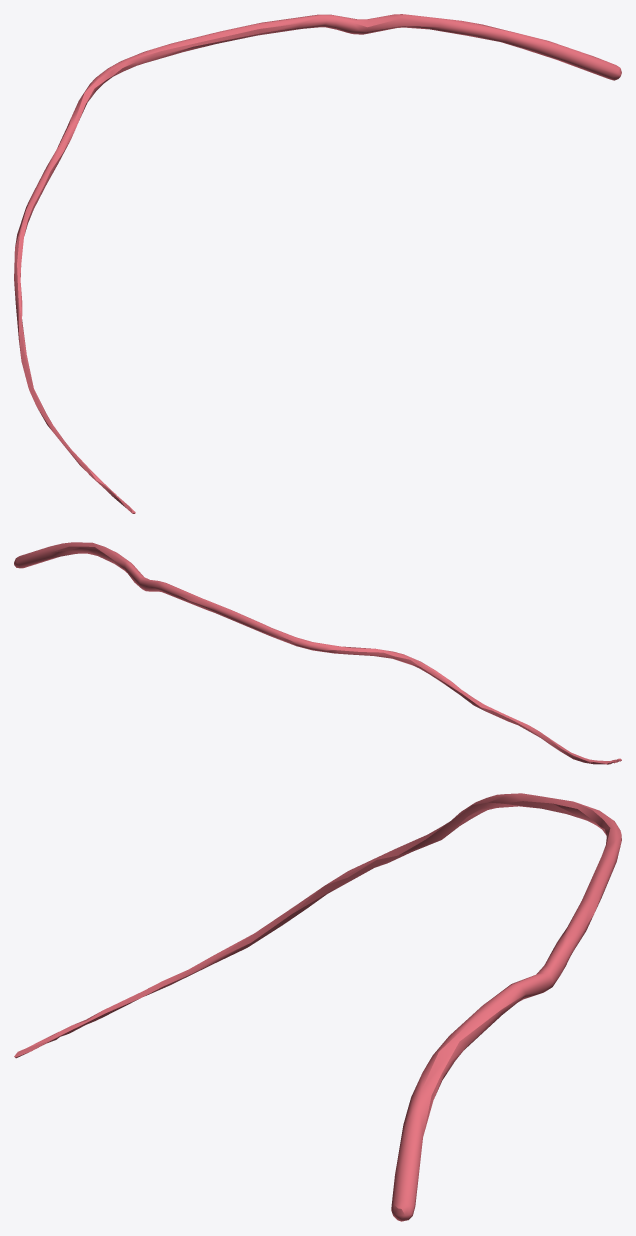
File: fma78121_fj3648.glb
The picture shows the model from 3 angles, top to bottom: view 1: azimuth 30°, elevation 25°; view 2: azimuth 150°, elevation 25°; view 3: azimuth 270°, elevation 25°; orthographic projection. The views are drawn at different scales.
Visible parts, largest first — view 1: FMA78121_FJ3648; view 2: FMA78121_FJ3648; view 3: FMA78121_FJ3648.
Boxes of the visible parts, x1=… form: FMA78121_FJ3648: x1=14, y1=14, x2=621, y2=513; FMA78121_FJ3648: x1=14, y1=542, x2=621, y2=764; FMA78121_FJ3648: x1=14, y1=793, x2=621, y2=1221.
Size of the model in its own units: 0.0884 by 0.0351 by 0.0497.
